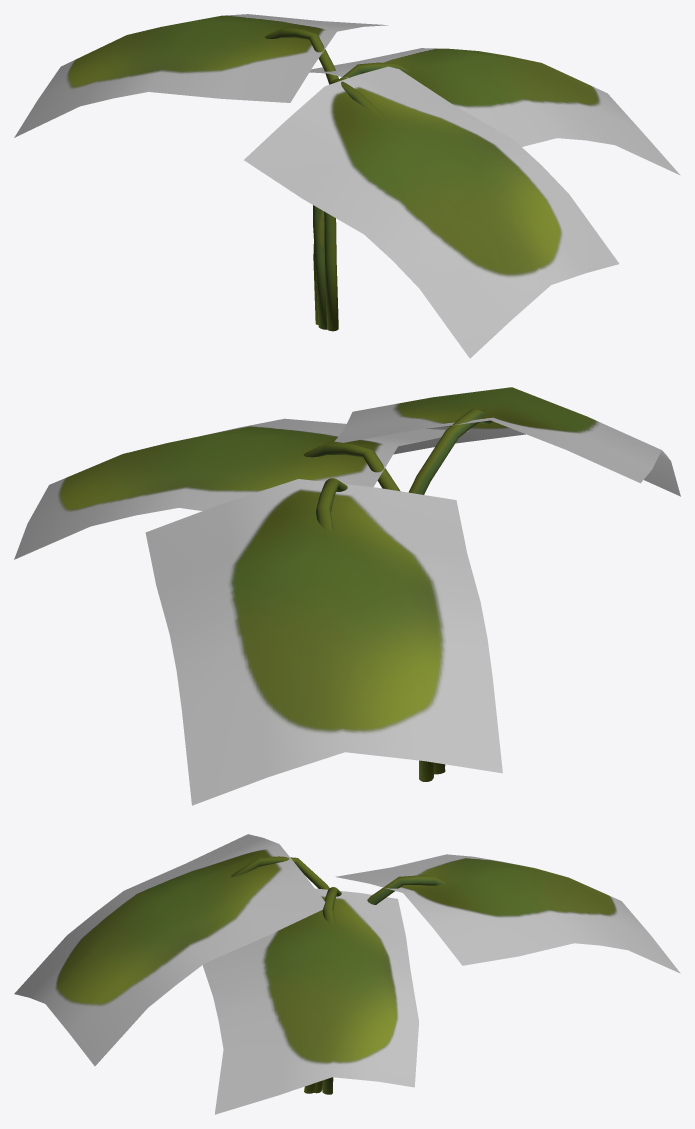
File: Bush_10.fbx
The picture shows the model from 3 angles, top to bottom: view 1: azimuth 30°, elevation 25°; view 2: azimuth 150°, elevation 25°; view 3: azimuth 270°, elevation 25°; orthographic projection. The views are drawn at different scales.
Visible parts, largest first — view 1: Bush.010; view 2: Bush.010; view 3: Bush.010.
Boxes of the visible parts, <box> form: Bush.010: <box>14,14,680,358</box>; Bush.010: <box>14,387,680,805</box>; Bush.010: <box>14,834,680,1114</box>.
Bounding box in the file's own units: 877 × 458 × 1160.
